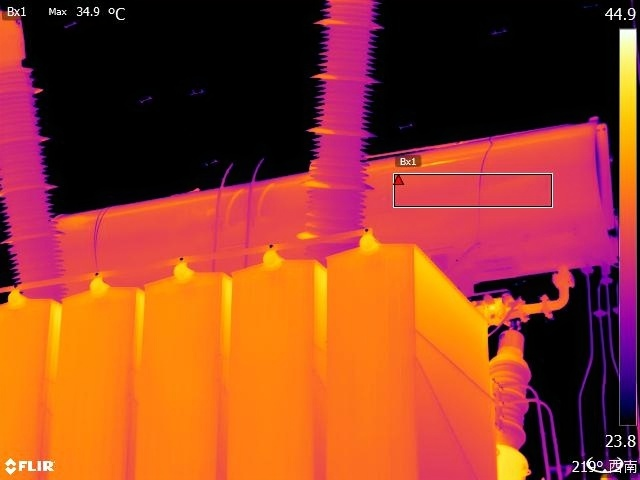oil conservator: (47, 109, 617, 328)
transformer: (1, 230, 505, 480)
tube: (294, 1, 397, 257), (1, 1, 73, 294), (481, 320, 549, 452)
